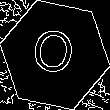O_S: (30, 26, 80, 84)
